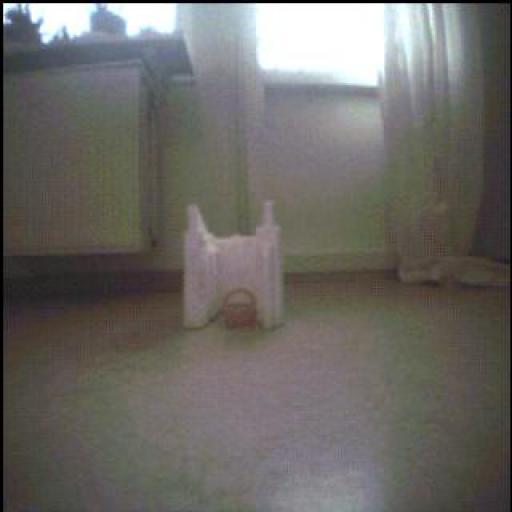Basket: (224, 289, 259, 331)
